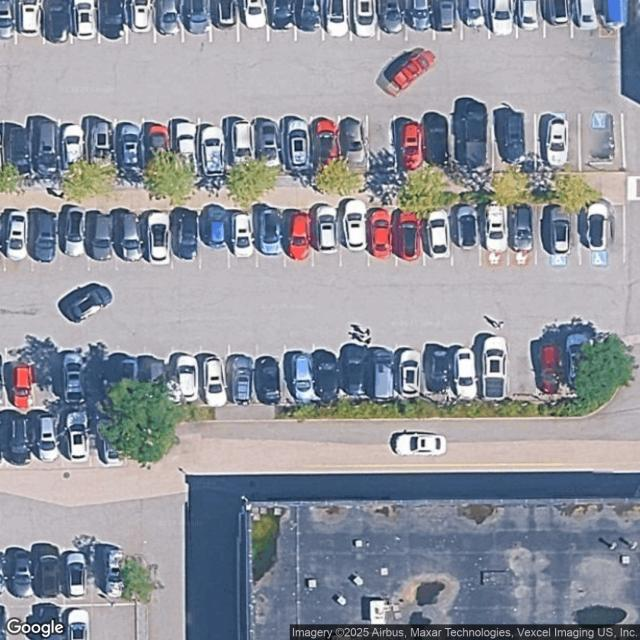car: (451, 96, 488, 168), (386, 48, 435, 96), (57, 283, 113, 322), (474, 334, 508, 398), (493, 102, 526, 163), (279, 114, 312, 174), (422, 346, 457, 397), (26, 207, 58, 262), (337, 342, 368, 398), (34, 119, 62, 180), (138, 210, 170, 263), (1, 546, 34, 597), (391, 210, 424, 261), (1, 410, 31, 466), (110, 209, 142, 261), (391, 115, 421, 170), (540, 204, 571, 257), (114, 121, 143, 177), (366, 346, 396, 400), (169, 208, 200, 260), (539, 112, 569, 165), (57, 116, 85, 171), (58, 204, 87, 257), (338, 198, 367, 251), (587, 111, 616, 164), (81, 115, 112, 164), (101, 543, 128, 599), (0, 208, 29, 260), (422, 111, 449, 166), (2, 123, 30, 176), (220, 115, 249, 166), (30, 411, 59, 462), (283, 351, 312, 402), (225, 353, 254, 404), (282, 208, 310, 260), (85, 210, 113, 260), (252, 116, 280, 166), (394, 347, 422, 397), (448, 203, 479, 248), (566, 332, 592, 384), (62, 410, 89, 460), (366, 208, 393, 258), (313, 119, 339, 170), (393, 433, 446, 458), (338, 116, 364, 166), (309, 205, 334, 257), (232, 210, 256, 264), (585, 202, 612, 250), (453, 348, 478, 399), (508, 204, 534, 253), (42, 0, 72, 42), (258, 203, 282, 255), (482, 204, 508, 252), (60, 550, 86, 597), (254, 356, 280, 403), (37, 552, 62, 600), (61, 352, 84, 402), (202, 206, 228, 250), (94, 426, 122, 466), (141, 120, 169, 160), (168, 118, 195, 159), (174, 353, 198, 399), (179, 0, 211, 34), (98, 0, 126, 38), (202, 125, 222, 177), (11, 364, 34, 409), (430, 212, 451, 260), (71, 1, 97, 39), (540, 345, 560, 394), (105, 352, 135, 384), (154, 1, 182, 35), (351, 1, 377, 37), (376, 1, 404, 34), (485, 1, 512, 35), (206, 356, 225, 404), (404, 0, 432, 32), (16, 1, 40, 36), (40, 602, 63, 638), (266, 0, 294, 29), (210, 1, 239, 29), (136, 354, 165, 382), (325, 1, 348, 36), (66, 607, 90, 640), (127, 1, 152, 32), (294, 0, 319, 31), (240, 1, 267, 29), (539, 0, 568, 26), (431, 0, 456, 30), (514, 1, 538, 30), (460, 0, 484, 29), (578, 0, 598, 31), (0, 1, 14, 37)
lot_boundary: (0, 0, 638, 638)
